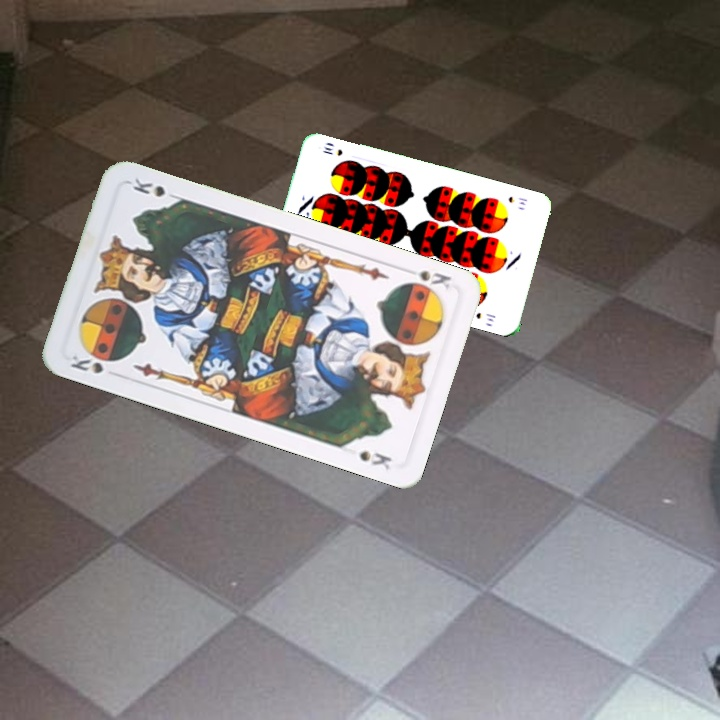S10: (504, 192, 530, 208)
SK: (65, 348, 119, 377), (399, 263, 454, 291)
